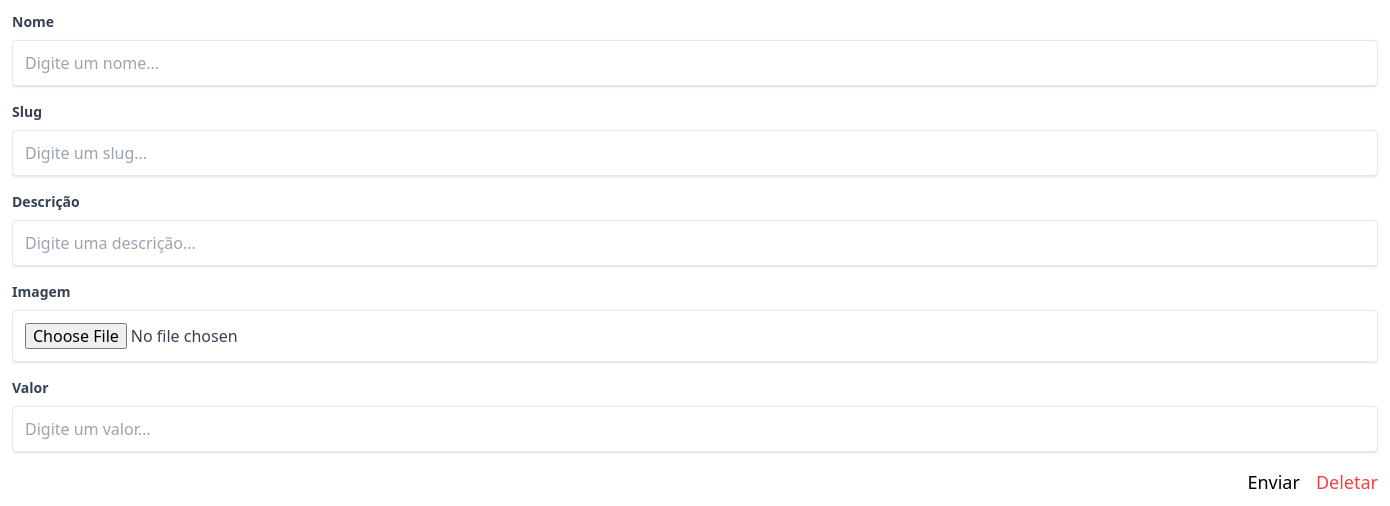
Scenario: generate product slug automatically
This screenshot has width=1390, height=506.
Type "T-shirt black" into the field labelled "Nome" at (695, 63), box [12,40,1378,86]
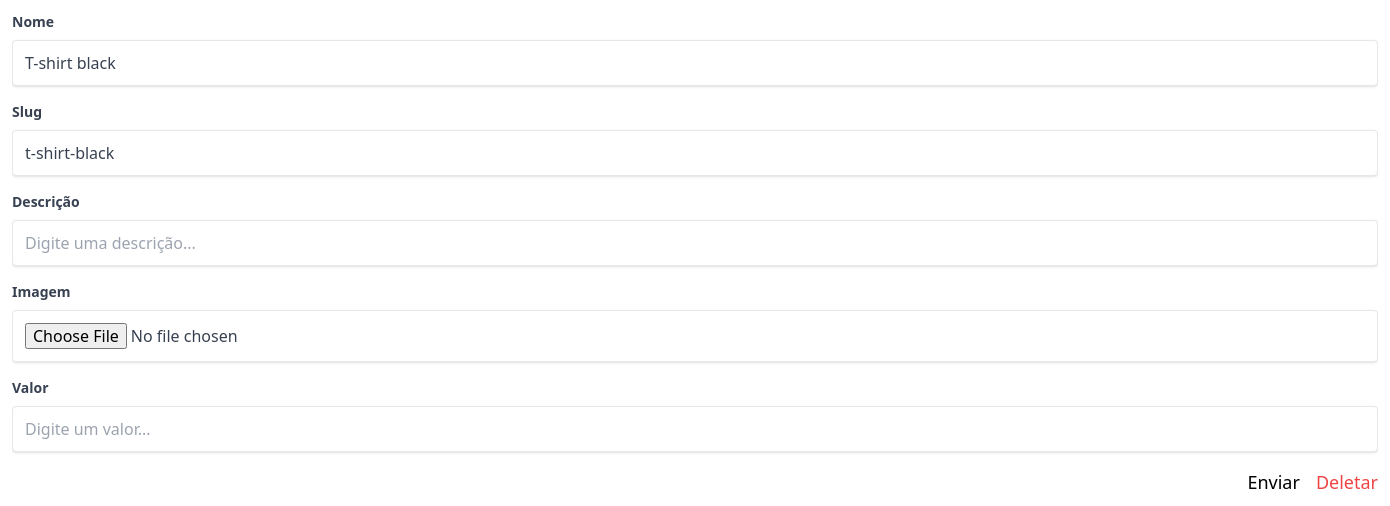
Now the field labelled "Slug" holds "t-shirt-black", box [12,130,1378,176]
Replace the text in the field labelled "Nome" with "T@-S@H$I^R*T" at (695, 63), box [12,40,1378,86]
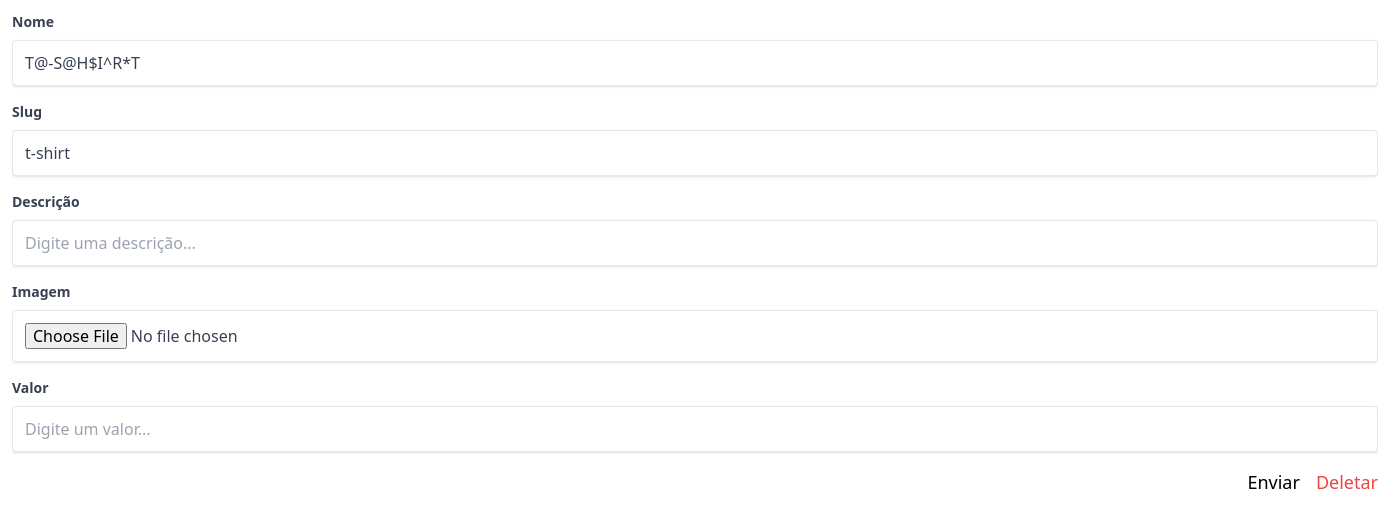
Now the field labelled "Slug" holds "t-shirt", box [12,130,1378,176]
